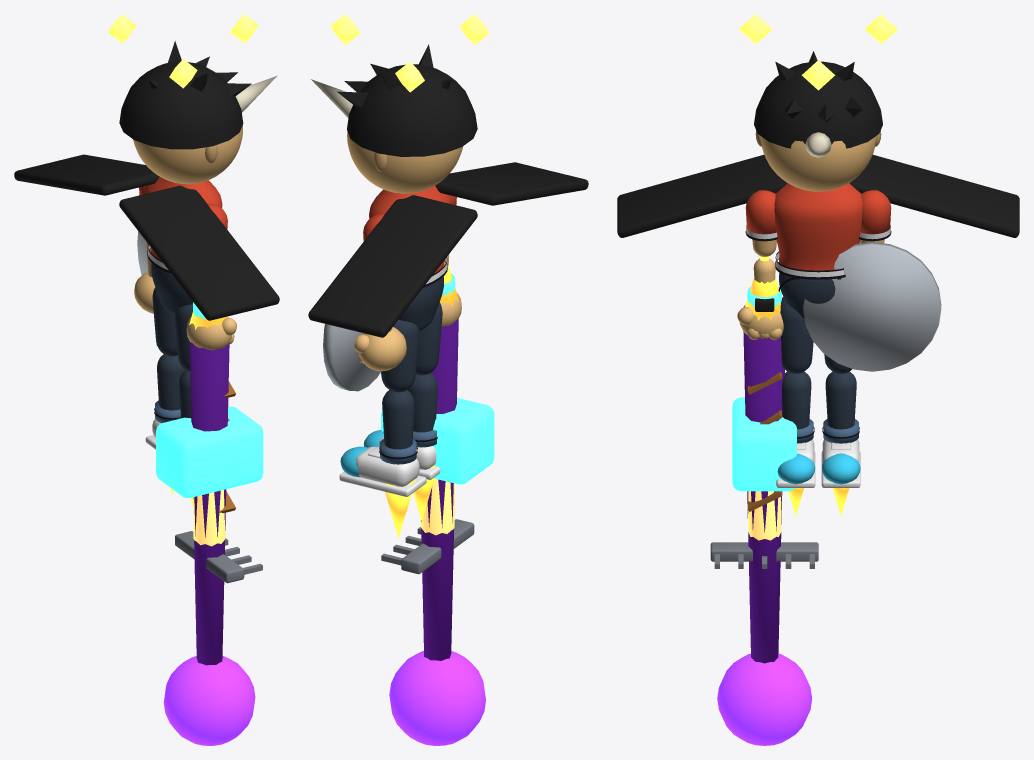
Rendered from kai.glb.
3 views of the same model, side by side, from view 1: azimuth 30°, elevation 25°; view 2: azimuth 150°, elevation 25°; view 3: azimuth 270°, elevation 25° (orthographic). The views are drawn at different scales.
Visible parts, largest first — view 1: wing0, hairCap, hammerHead, shadowArm, shadowFist, wing1, skull, baguette, calf.001, rakeHead, thigh.001, pelvis (+9 smaller); view 2: wing1, hairCap, shadowFist, shadowArm, hammerHead, wing0, skull, prop:lid, calf.001, thigh.001, shoe.001, palm.001 (+14 smaller); view 3: prop:lid, hairCap, shadowArm, wing0, wing1, shadowFist, torso, hammerHead, skull, thigh, calf.001, rakeHead (+8 smaller).
Part boxes in pixels (x1,y1,x2,y2): wing0: (119,185,279,320); hairCap: (119,62,243,149); hammerHead: (156,406,263,497); shadowArm: (189,341,229,665); shadowFist: (163,656,255,745); wing1: (14,154,159,195); skull: (133,125,242,184); baguette: (193,490,225,546); calf.001: (157,354,185,410); rakeHead: (175,531,244,583); thigh.001: (152,287,177,356); pelvis: (151,263,192,314); wing1: (308,195,477,337); hairCap: (347,64,477,156); shadowFist: (389,651,485,745); shadowArm: (421,319,458,660); hammerHead: (381,398,494,484); wing0: (435,162,588,205); skull: (347,131,462,193); prop:lid: (323,324,380,391); calf.001: (382,390,414,449); thigh.001: (381,319,419,392); shoe.001: (355,446,419,486); palm.001: (358,327,406,371); prop:lid: (803,242,941,371); hairCap: (754,61,882,148); shadowArm: (743,331,784,663); wing0: (617,154,787,237); wing1: (849,154,1019,237); shadowFist: (717,653,812,745); torso: (774,183,862,270); hammerHead: (732,397,796,491); skull: (760,136,876,191); thigh: (780,297,813,373); calf.001: (825,371,856,429); rakeHead: (710,542,818,561).
Size of the model in its own units: 0.9187 by 3.64 by 1.86.
